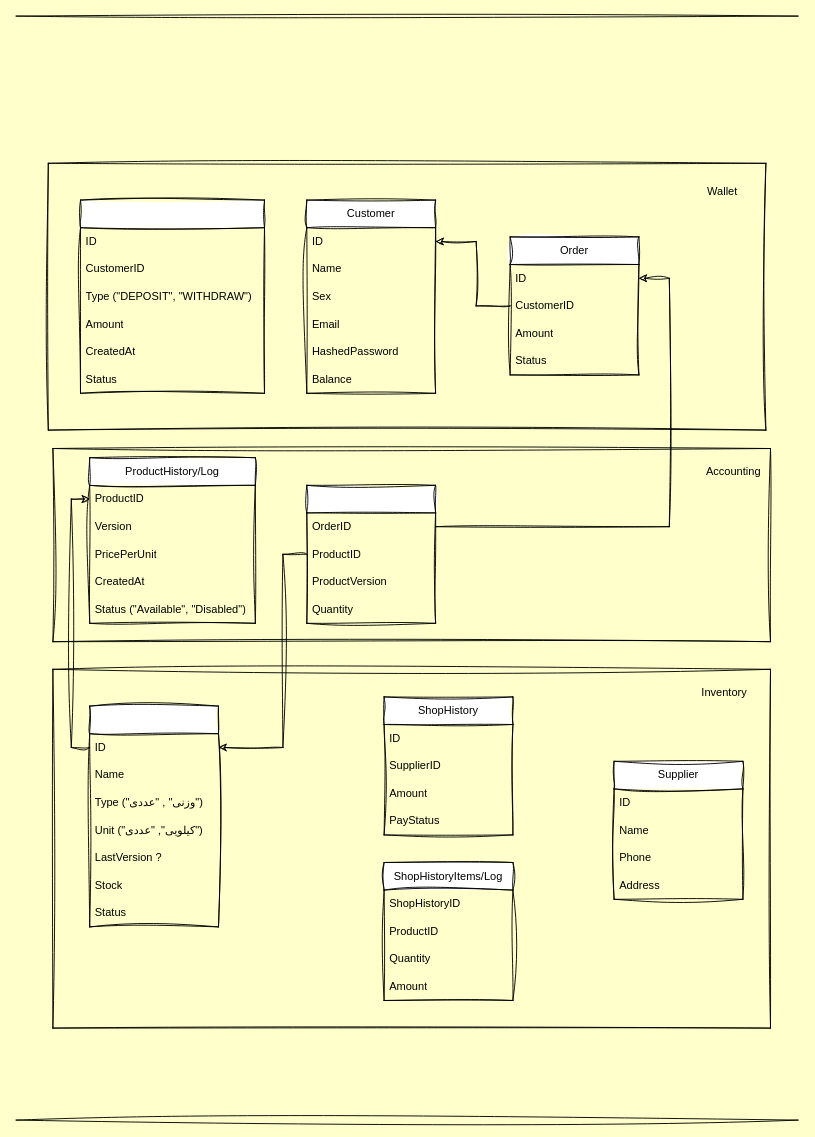
Some shapes in this 815 by 1137 pixel diagram are drawn without their labels. Here are the shapes that lost their labels. From the top down, the box of each, then its label:
(80, 199, 264, 393): Trancsaction/Log
(306, 484, 436, 623): OrderItems/Log
(89, 705, 218, 927): Product
